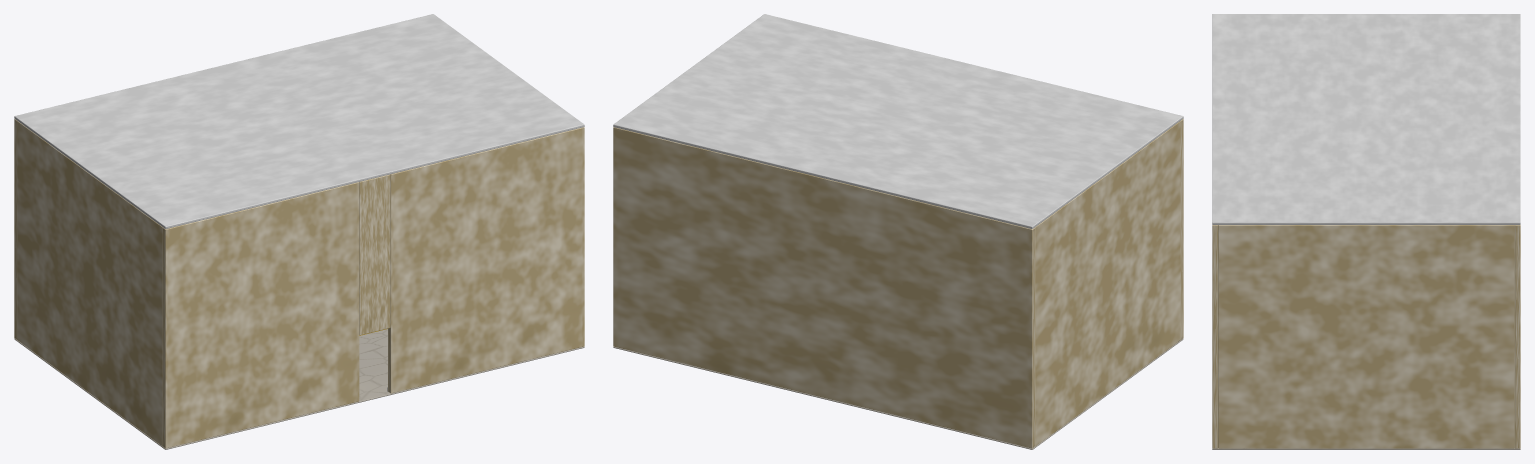
Rendered from di-walls.glb.
3 views of the same model, side by side, from view 1: azimuth 30°, elevation 25°; view 2: azimuth 150°, elevation 25°; view 3: azimuth 270°, elevation 25° (orthographic).
Parts seen in each view (by area): view 1: Ceiling, Wall_South_Left, Wall_South_Right, Wall_West, Wall_South_Lintel, Floor, Wall_North; view 2: Wall_North, Ceiling, Wall_West, Floor, Wall_South_Left; view 3: Wall_East, Ceiling, Wall_North, Wall_South_Right, Floor.
Part boxes in pixels (box(x1,y1,x2,y2)): Ceiling: box(14, 14, 584, 228); Wall_South_Left: box(162, 182, 359, 448); Wall_South_Right: box(388, 127, 584, 393); Wall_West: box(17, 121, 162, 446); Wall_South_Lintel: box(359, 174, 390, 335); Floor: box(14, 329, 584, 449); Wall_North: box(14, 119, 17, 339); Wall_North: box(613, 127, 1035, 448); Ceiling: box(613, 14, 1183, 228); Wall_West: box(1035, 121, 1180, 446); Floor: box(613, 338, 1183, 449); Wall_South_Left: box(1180, 119, 1183, 339); Wall_East: box(1218, 225, 1514, 448); Ceiling: box(1212, 14, 1520, 224); Wall_North: box(1514, 225, 1520, 448); Wall_South_Right: box(1212, 225, 1218, 448); Floor: box(1212, 448, 1520, 449).
Size of the model in its own units: 16 by 8.15 by 10.
Materials: 5 (5 with a texture image).
